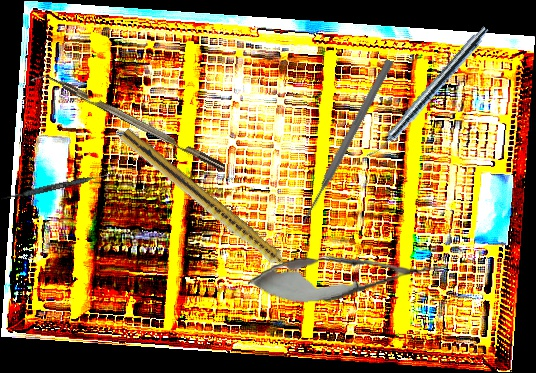Chopper: (30, 65, 226, 181)
Handpiece: (116, 127, 305, 286), (364, 22, 492, 164)
Micro Scissor: (246, 243, 448, 309)
Pusher: (297, 57, 396, 227)
Spatula Surgical: (0, 169, 115, 204)
